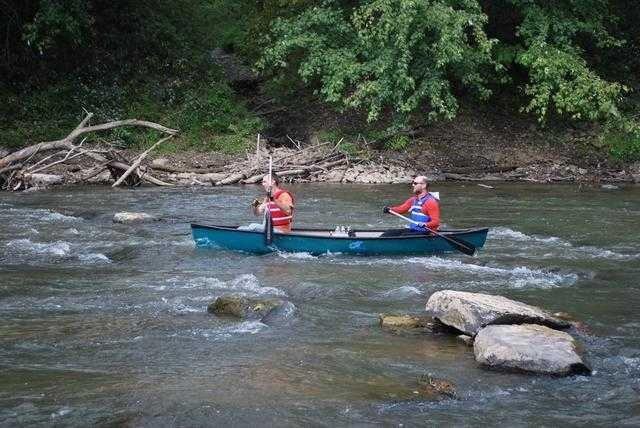kayak: (191, 220, 489, 258)
